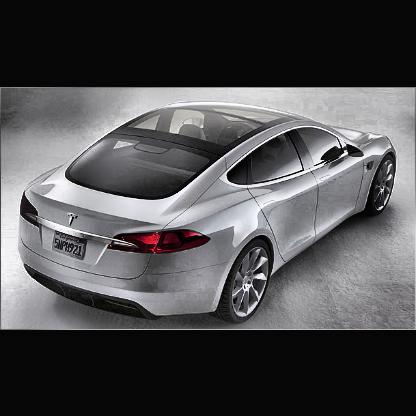Tesla Model S Sedan 2012: (7, 96, 407, 329)
